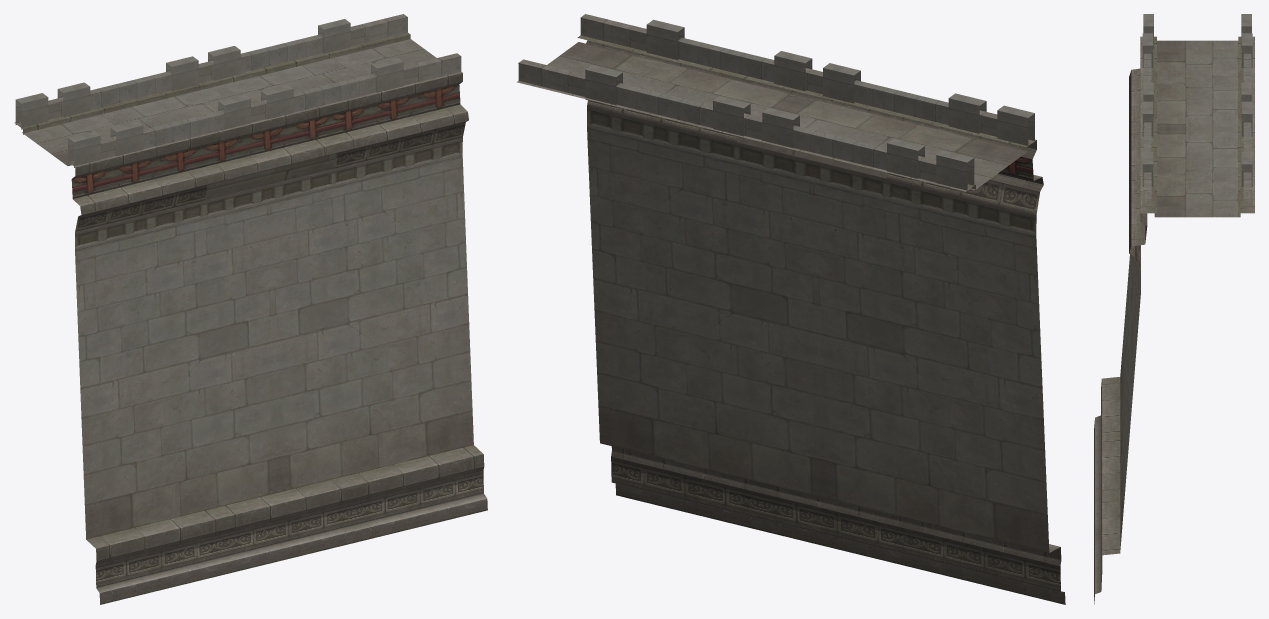
The model's file is zc_chengqiang01_53_42_7490out.fbx.
3 views of the same model, side by side, from view 1: azimuth 30°, elevation 25°; view 2: azimuth 150°, elevation 25°; view 3: azimuth 270°, elevation 25° (orthographic). The views are drawn at different scales.
Visible parts, largest first — view 1: zc_chengqiang01; view 2: zc_chengqiang01; view 3: zc_chengqiang01.
Boxes of the visible parts, x1=… form: zc_chengqiang01: x1=14, y1=14, x2=487, y2=604; zc_chengqiang01: x1=517, y1=14, x2=1065, y2=604; zc_chengqiang01: x1=1094, y1=14, x2=1254, y2=604.
Bounding box in the file's own units: 4.37 × 4.78 × 1.68.
